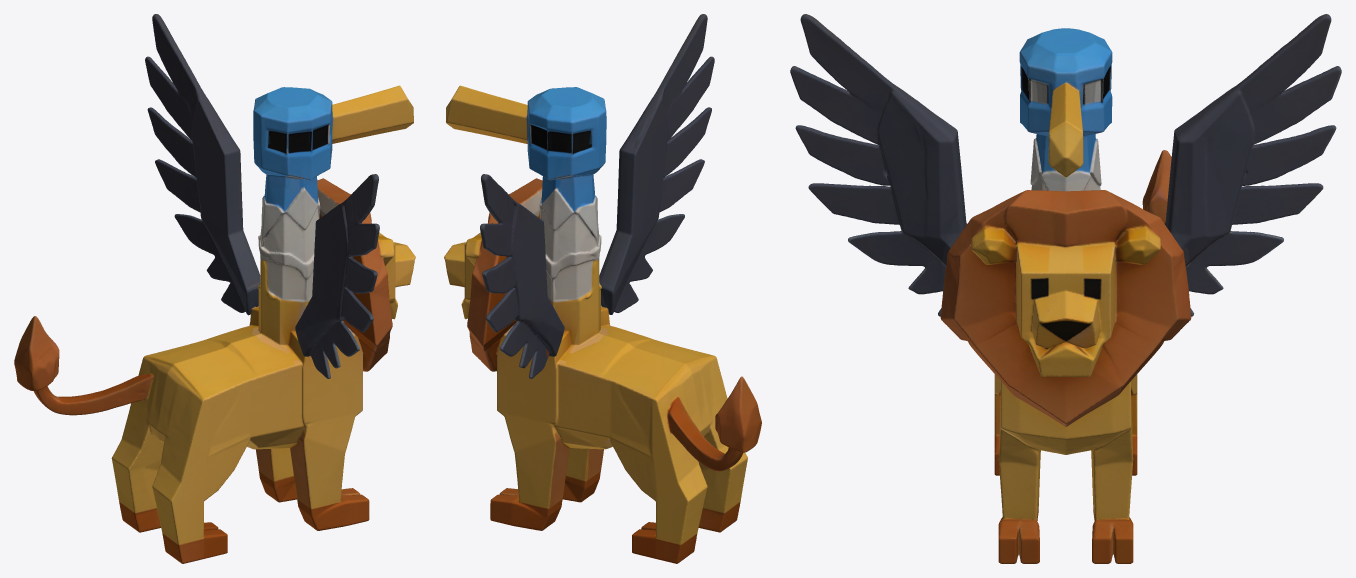
The model's file is gryphon.glb.
3 renders of one model, left to right at view 1: azimuth 30°, elevation 25°; view 2: azimuth 150°, elevation 25°; view 3: azimuth 270°, elevation 25°, orthographic. The views are drawn at different scales.
Visible parts, largest first — view 1: tripo_node_043674be-d585-45bb-9fe7-f07107b692cf; view 2: tripo_node_043674be-d585-45bb-9fe7-f07107b692cf; view 3: tripo_node_043674be-d585-45bb-9fe7-f07107b692cf.
Part boxes in pixels (<box>): tripo_node_043674be-d585-45bb-9fe7-f07107b692cf: <box>14,14,415,563</box>; tripo_node_043674be-d585-45bb-9fe7-f07107b692cf: <box>444,14,761,563</box>; tripo_node_043674be-d585-45bb-9fe7-f07107b692cf: <box>790,14,1341,563</box>.
Size of the model in its own units: 0.8589 by 1 by 0.9882.
Materials: 1 (1 with a texture image).
